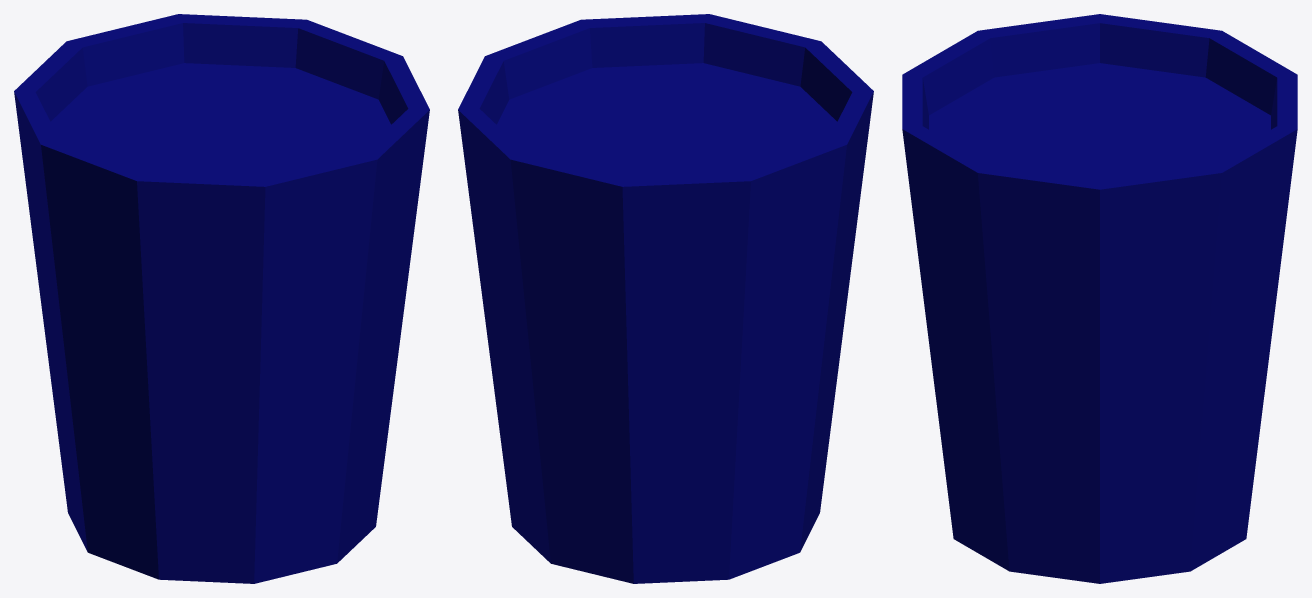
The model's file is Full_Trash_Can.fbx.
The picture shows the model from 3 angles, left to right: view 1: azimuth 30°, elevation 25°; view 2: azimuth 150°, elevation 25°; view 3: azimuth 270°, elevation 25°; orthographic projection.
Visible parts, largest first — view 1: Full trashcan; view 2: Full trashcan; view 3: Full trashcan.
Boxes of the visible parts, x1,y1,x2,y2 form: Full trashcan: (14,14,429,583); Full trashcan: (458,14,873,583); Full trashcan: (902,14,1297,583).
Size of the model in its own units: 20.26 by 22.42 by 19.27.
